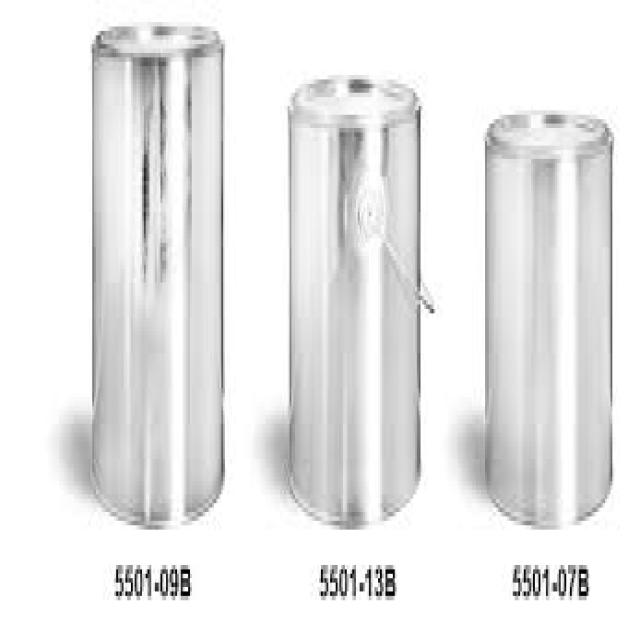metal: (89, 13, 225, 521), (288, 75, 432, 525), (484, 101, 613, 521)
